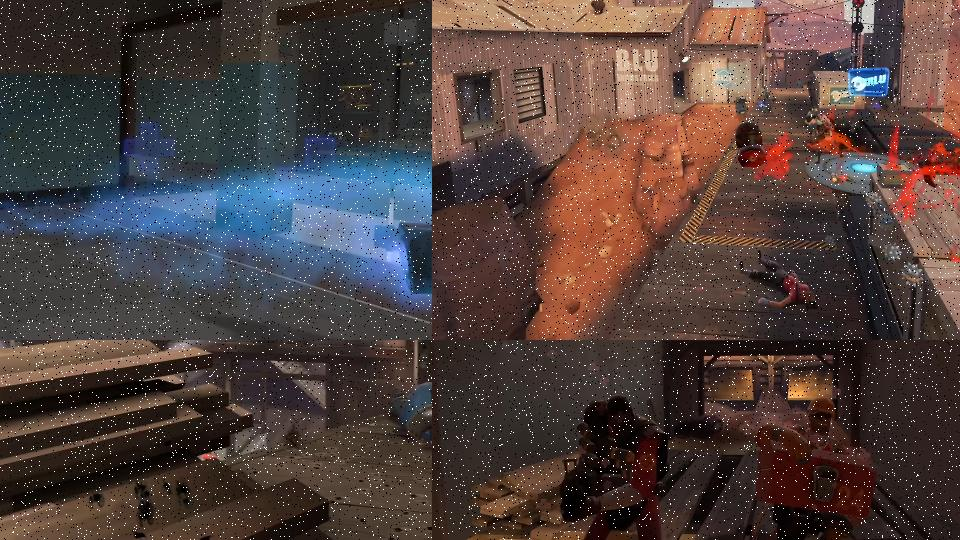Enemy: (744, 390, 883, 540), (555, 388, 680, 540), (739, 249, 821, 310), (388, 377, 432, 455), (815, 124, 844, 164), (808, 111, 835, 133), (805, 108, 819, 142)
